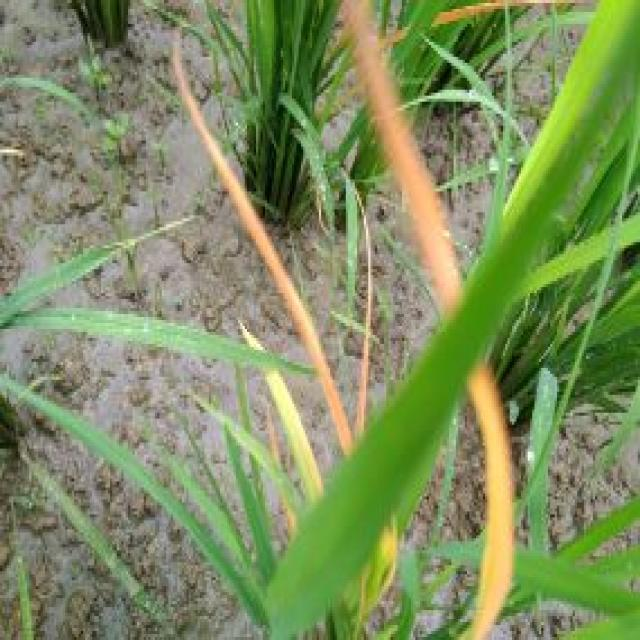Tungro: (160, 15, 357, 468), (241, 322, 324, 519), (458, 364, 518, 636), (352, 188, 376, 436), (428, 0, 580, 27)
